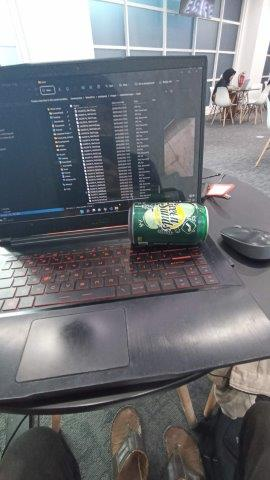kaleng: (128, 201, 209, 245)
